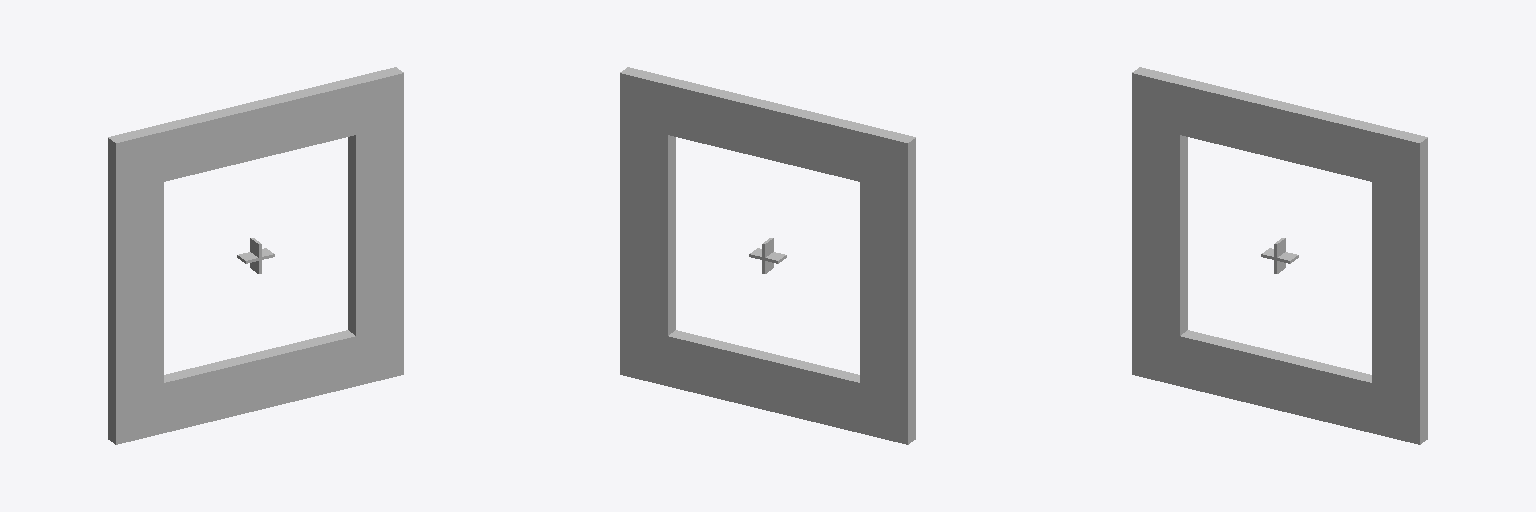
The model's file is target.obj.
3 renders of one model, left to right at view 1: azimuth 30°, elevation 25°; view 2: azimuth 150°, elevation 25°; view 3: azimuth 330°, elevation 25°, orthographic.
Visible parts, largest first — view 1: 平面.001; view 2: 平面.001; view 3: 平面.001.
Boxes of the visible parts, box(x1,y1,x2,y2) form: 平面.001: box(108, 67, 403, 444); 平面.001: box(620, 67, 915, 444); 平面.001: box(1132, 67, 1427, 444).
Size of the model in its own units: 1 by 1 by 0.05.